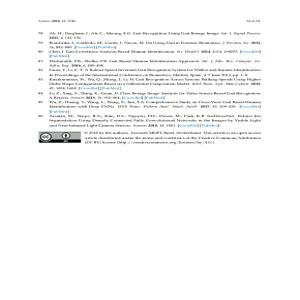image: (34, 130, 84, 147)
text: (34, 27, 264, 129), (86, 129, 265, 147)
